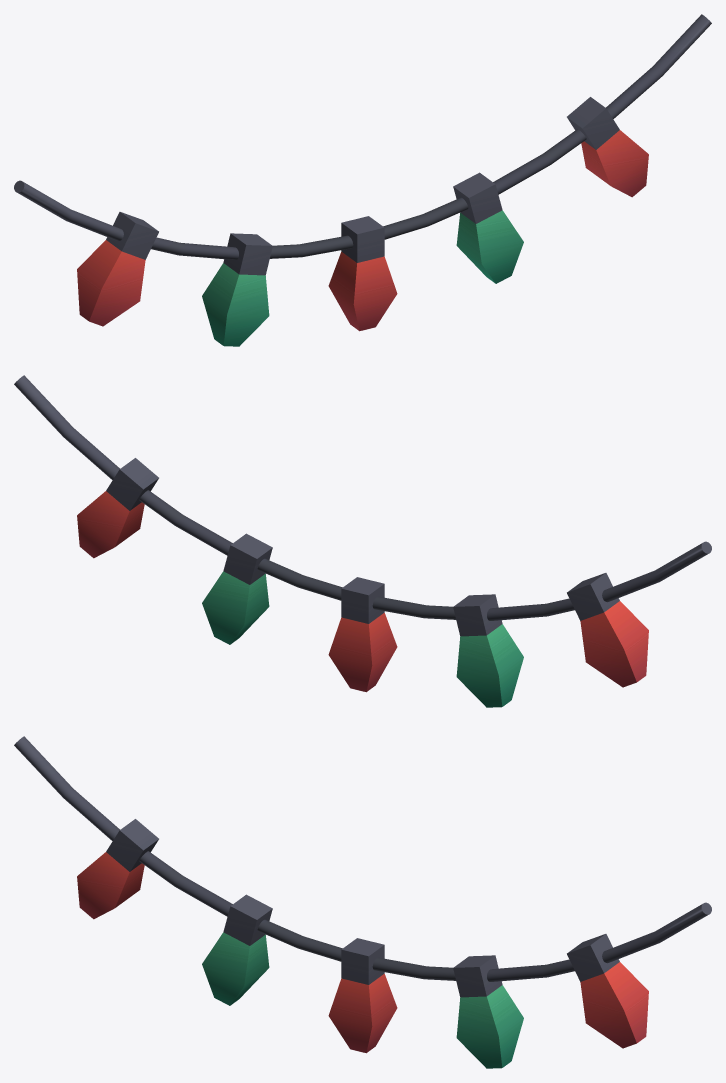
The model's file is ljusslinga.glb.
3 views of the same model, one above another, from view 1: azimuth 30°, elevation 25°; view 2: azimuth 150°, elevation 25°; view 3: azimuth 330°, elevation 25° (orthographic).
Visible parts, largest first — view 1: lights-colored; view 2: lights-colored; view 3: lights-colored.
Part boxes in pixels (x1=…): lights-colored: x1=14, y1=14, x2=711, y2=346; lights-colored: x1=14, y1=375, x2=711, y2=707; lights-colored: x1=14, y1=736, x2=711, y2=1068.
Size of the model in its own units: 1.01 by 0.3162 by 0.0636.
Materials: 1 (1 with a texture image).
